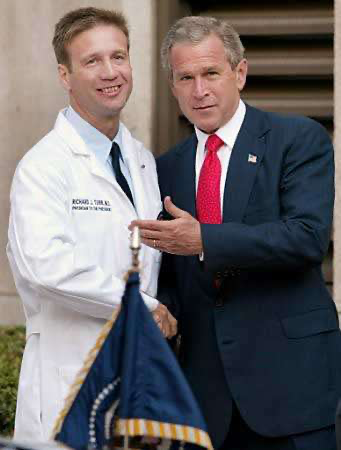Face: (67, 27, 141, 126), (170, 47, 237, 129)
